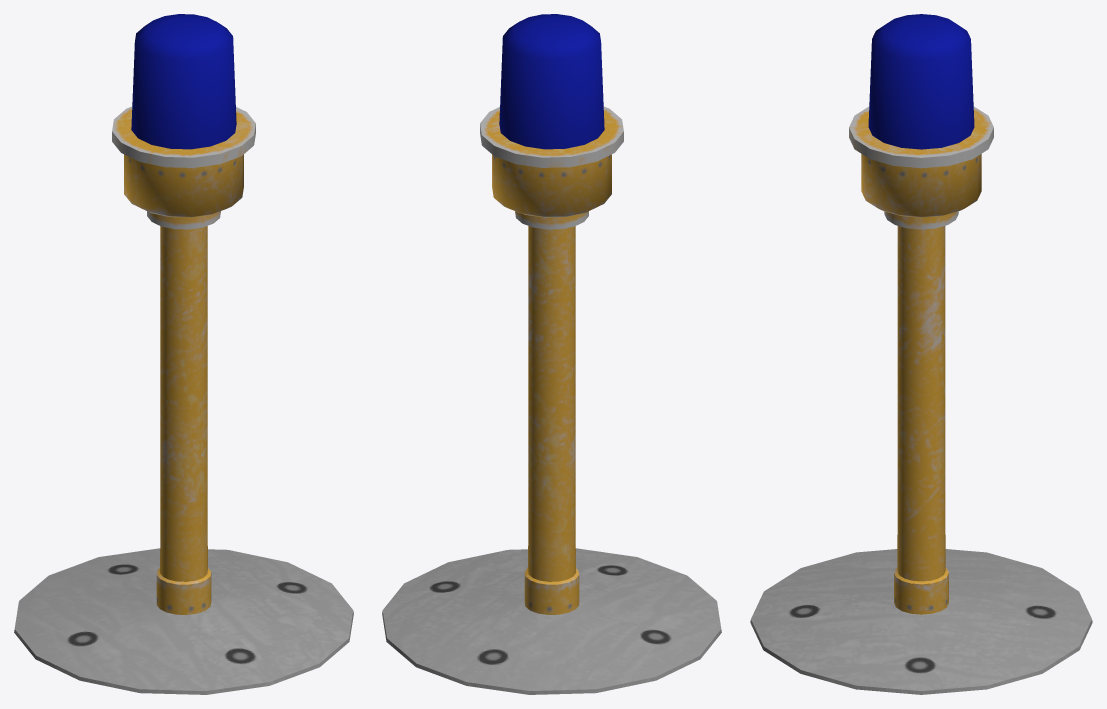
File: SM_Runway_Lamp_Blue.fbx
3 views of the same model, side by side, from view 1: azimuth 30°, elevation 25°; view 2: azimuth 150°, elevation 25°; view 3: azimuth 270°, elevation 25° (orthographic).
Parts seen in each view (by area): view 1: SM_Runway_Lamp_Blue; view 2: SM_Runway_Lamp_Blue; view 3: SM_Runway_Lamp_Blue.
Part boxes in pixels (x1,y1,x2,y2): SM_Runway_Lamp_Blue: (14,14,353,694); SM_Runway_Lamp_Blue: (382,14,721,694); SM_Runway_Lamp_Blue: (750,14,1092,694).
Size of the model in its own units: 0.2084 by 0.4004 by 0.2084.
